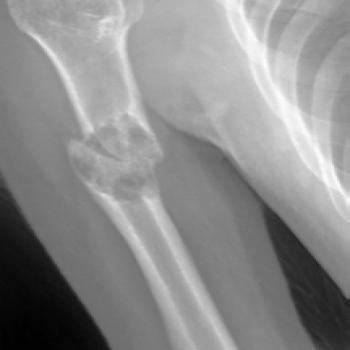Fracture: (47, 118, 184, 194)
